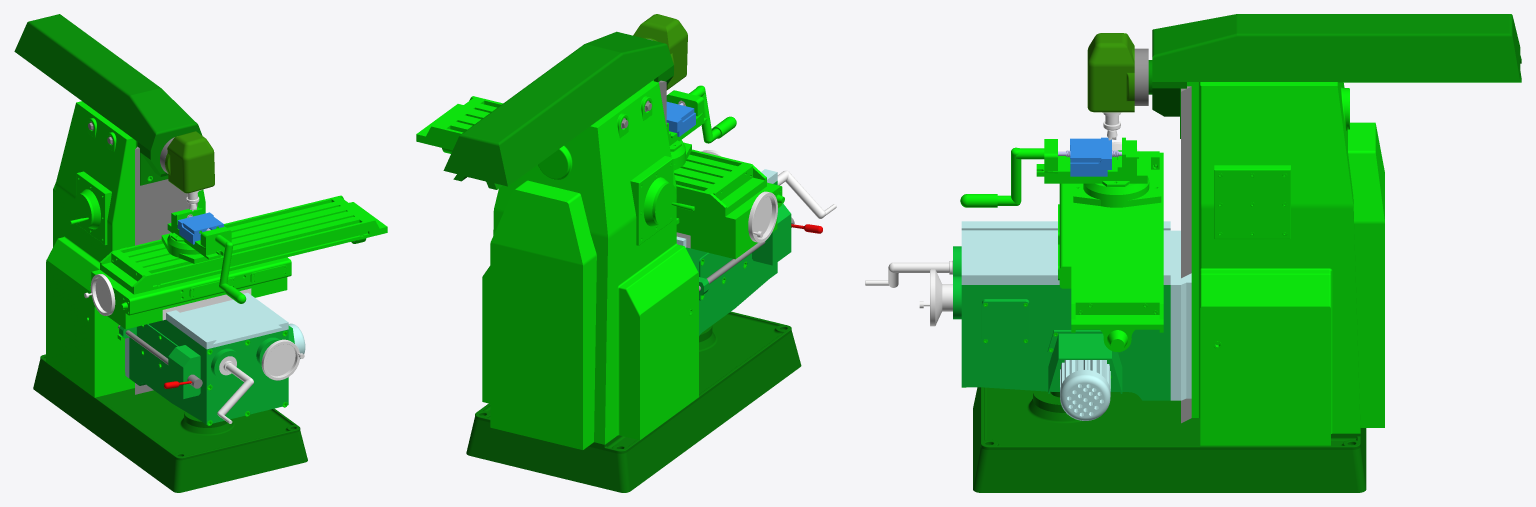
3 views of the same model, side by side, from view 1: azimuth 30°, elevation 25°; view 2: azimuth 150°, elevation 25°; view 3: azimuth 270°, elevation 25° (orthographic). The views are drawn at different scales.
Visible parts, largest first — view 1: Cuerpo_Principal, Base_Principal, Cola_de_Milano, Mesa, Cuerpo_Sub_Mesa, Sub_Mesa, Guia_2a, Guia_1, Porta_Fresa, Volante_A, Prensa, Volante_4 (+7 smaller); view 2: Cuerpo_Principal, Base_Principal, Cola_de_Milano, Mesa, Cuerpo_Sub_Mesa, Sub_Mesa, Porta_Fresa, Volante_4, Volante_A_<3>, Prensa, Palanca_Prensa, Prensa_deslizante (+1 smaller); view 3: Cuerpo_Principal, Base_Principal, Cola_de_Milano, Cuerpo_Sub_Mesa, Mesa, Guia_2a, Porta_Fresa, Guia_1b, MOTOR, Prensa, Guia_1, Base_Prensa (+5 smaller).
Part boxes in pixels (left/top/right/bottom): Cuerpo_Principal: left=46, top=101, right=205, bottom=397; Base_Principal: left=33, top=354, right=307, bottom=492; Cola_de_Milano: left=14, top=14, right=202, bottom=185; Mesa: left=100, top=195, right=387, bottom=294; Cuerpo_Sub_Mesa: left=119, top=319, right=294, bottom=424; Sub_Mesa: left=91, top=257, right=291, bottom=329; Guia_2a: left=166, top=292, right=288, bottom=349; Guia_1: left=135, top=146, right=197, bottom=394; Porta_Fresa: left=165, top=131, right=214, bottom=193; Volante_A: left=261, top=339, right=304, bottom=380; Prensa: left=167, top=207, right=231, bottom=259; Volante_4: left=69, top=189, right=100, bottom=229; Cuerpo_Principal: left=482, top=80, right=698, bottom=449; Base_Principal: left=466, top=311, right=801, bottom=492; Cola_de_Milano: left=443, top=31, right=673, bottom=189; Mesa: left=416, top=96, right=766, bottom=216; Cuerpo_Sub_Mesa: left=686, top=181, right=791, bottom=335; Sub_Mesa: left=676, top=182, right=784, bottom=259; Porta_Fresa: left=633, top=14, right=687, bottom=90; Volante_4: left=643, top=177, right=694, bottom=226; Volante_A_<3>: left=748, top=191, right=777, bottom=242; Prensa: left=666, top=90, right=707, bottom=151; Palanca_Prensa: left=689, top=85, right=736, bottom=143; Prensa_deslizante: left=666, top=101, right=695, bottom=136; Cuerpo_Principal: left=1187, top=82, right=1384, bottom=445; Base_Principal: left=973, top=387, right=1366, bottom=492; Cola_de_Milano: left=1148, top=14, right=1521, bottom=138; Cuerpo_Sub_Mesa: left=953, top=246, right=1170, bottom=400; Mesa: left=1071, top=151, right=1163, bottom=351; Guia_2a: left=961, top=221, right=1170, bottom=284; Porta_Fresa: left=1087, top=33, right=1134, bottom=112; Guia_1b: left=1170, top=230, right=1191, bottom=400; MOTOR: left=1060, top=360, right=1110, bottom=420; Prensa: left=1036, top=137, right=1147, bottom=186; Guia_1: left=1181, top=86, right=1191, bottom=423; Base_Prensa: left=1073, top=177, right=1161, bottom=207.
Size of the model in its own units: 1.23 by 1.35 by 1.88.
